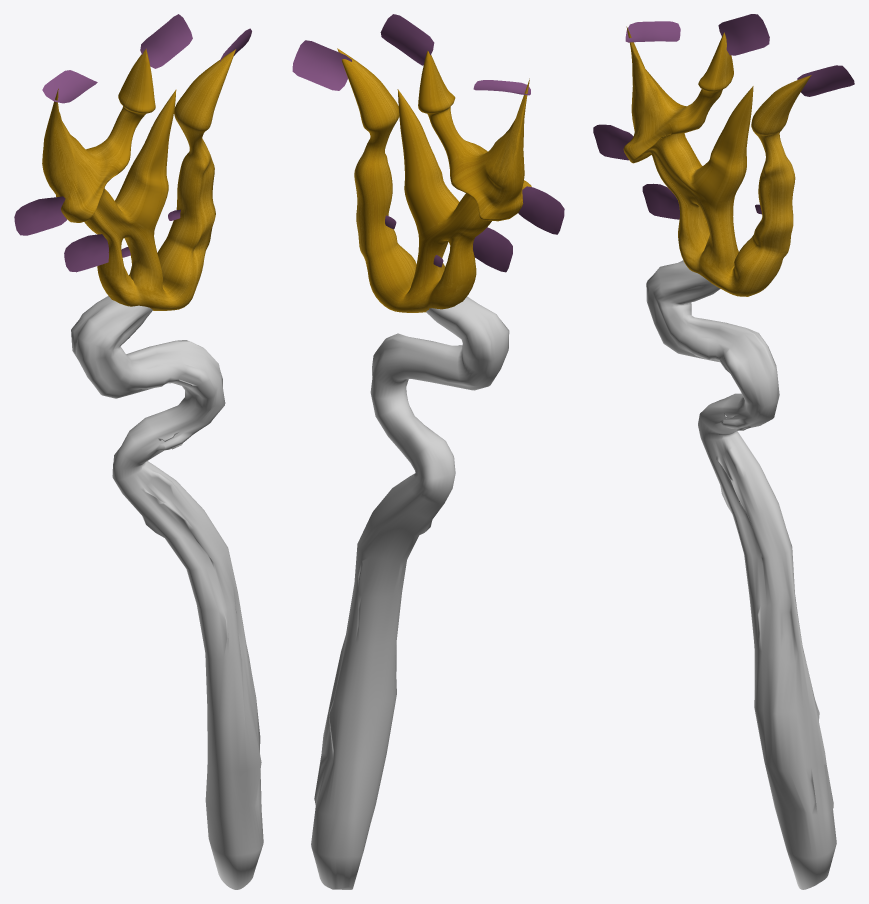
The model's file is (FIX) Senjata Mage Baik.fbx.
The picture shows the model from 3 angles, left to right: view 1: azimuth 30°, elevation 25°; view 2: azimuth 150°, elevation 25°; view 3: azimuth 330°, elevation 25°; orthographic projection. The views are drawn at different scales.
Visible parts, largest first — view 1: Cylinder, Cube, leaf.015; view 2: Cylinder, Cube, leaf.015; view 3: Cylinder, Cube, leaf.015.
Part boxes in pixels (bbox=[...]): Cylinder: bbox=[71, 296, 263, 889]; Cube: bbox=[42, 49, 235, 310]; leaf.015: bbox=[14, 14, 251, 272]; Cylinder: bbox=[311, 296, 509, 889]; Cube: bbox=[337, 48, 531, 312]; leaf.015: bbox=[292, 14, 564, 272]; Cylinder: bbox=[646, 260, 836, 889]; Cube: bbox=[623, 26, 811, 296]; leaf.015: bbox=[593, 14, 854, 219].
Size of the model in its own units: 175 by 587 by 54.35.
